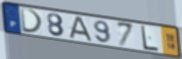7: (117, 20, 135, 49)
8: (47, 13, 66, 38)
9: (92, 20, 113, 44)
A: (67, 16, 94, 44)
D: (19, 6, 45, 34)
L: (140, 24, 160, 53)
